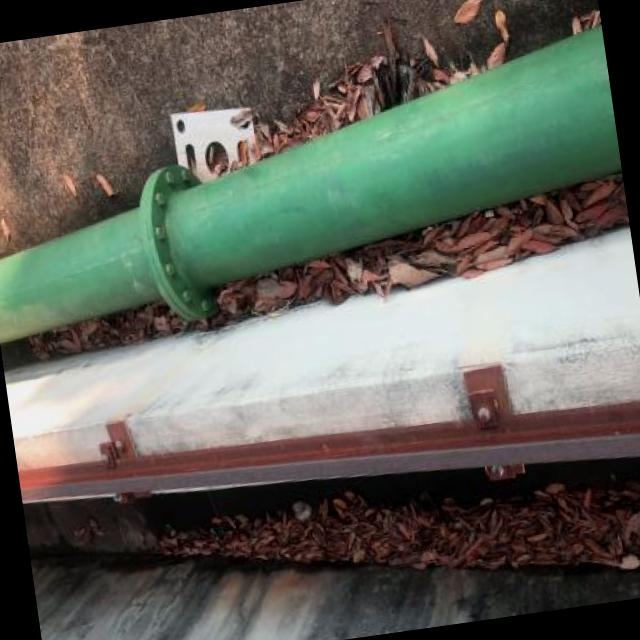gas: (0, 9, 636, 358)
